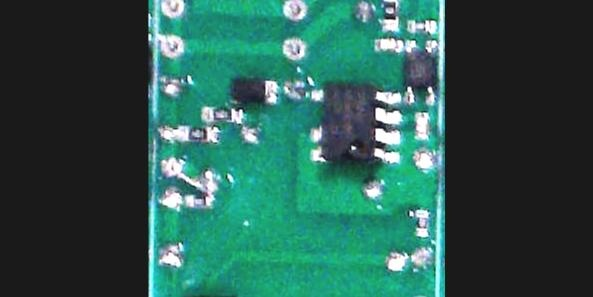chip-capacitor: (414, 111, 430, 141), (373, 36, 403, 51)
chip-resistor: (202, 107, 240, 122), (381, 0, 399, 30), (406, 18, 437, 34), (181, 126, 212, 142), (415, 207, 430, 238), (186, 194, 213, 207)
diode: (229, 77, 277, 104)
ic: (308, 82, 402, 165), (401, 38, 439, 106)
